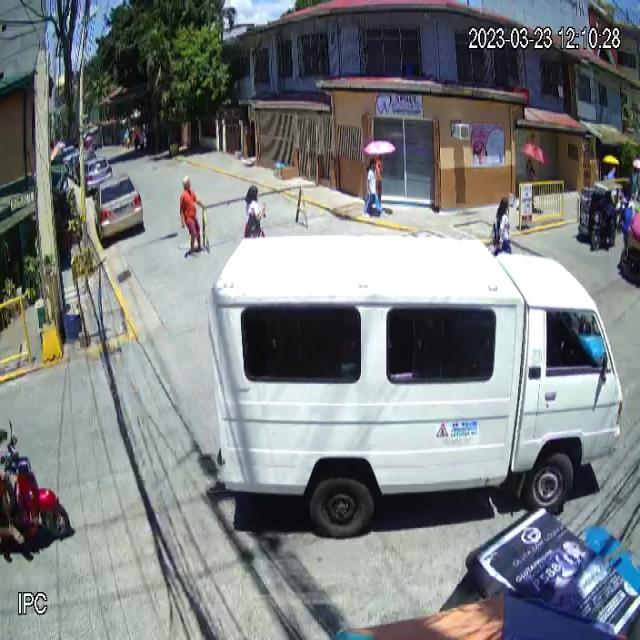Car: (93, 173, 143, 244)
Van: (205, 236, 622, 535)
